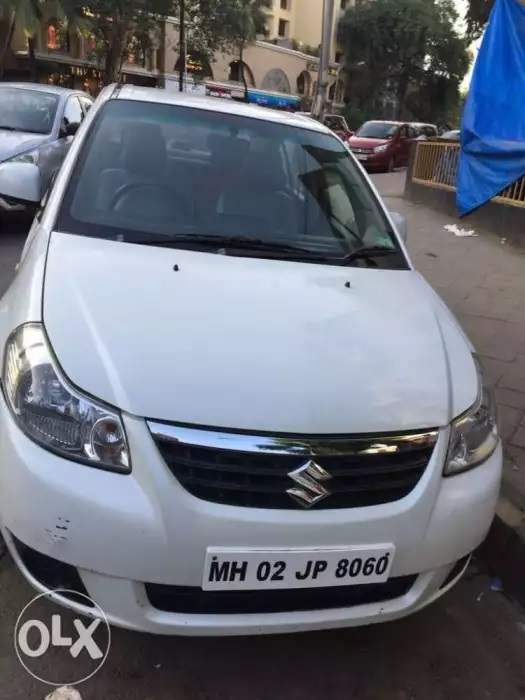licenseplate: (200, 540, 398, 591)
